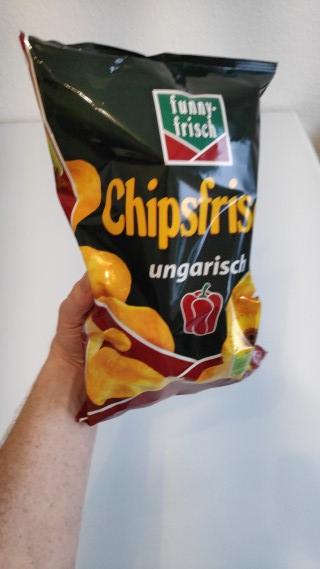chipsfrisch: (18, 31, 278, 426)
